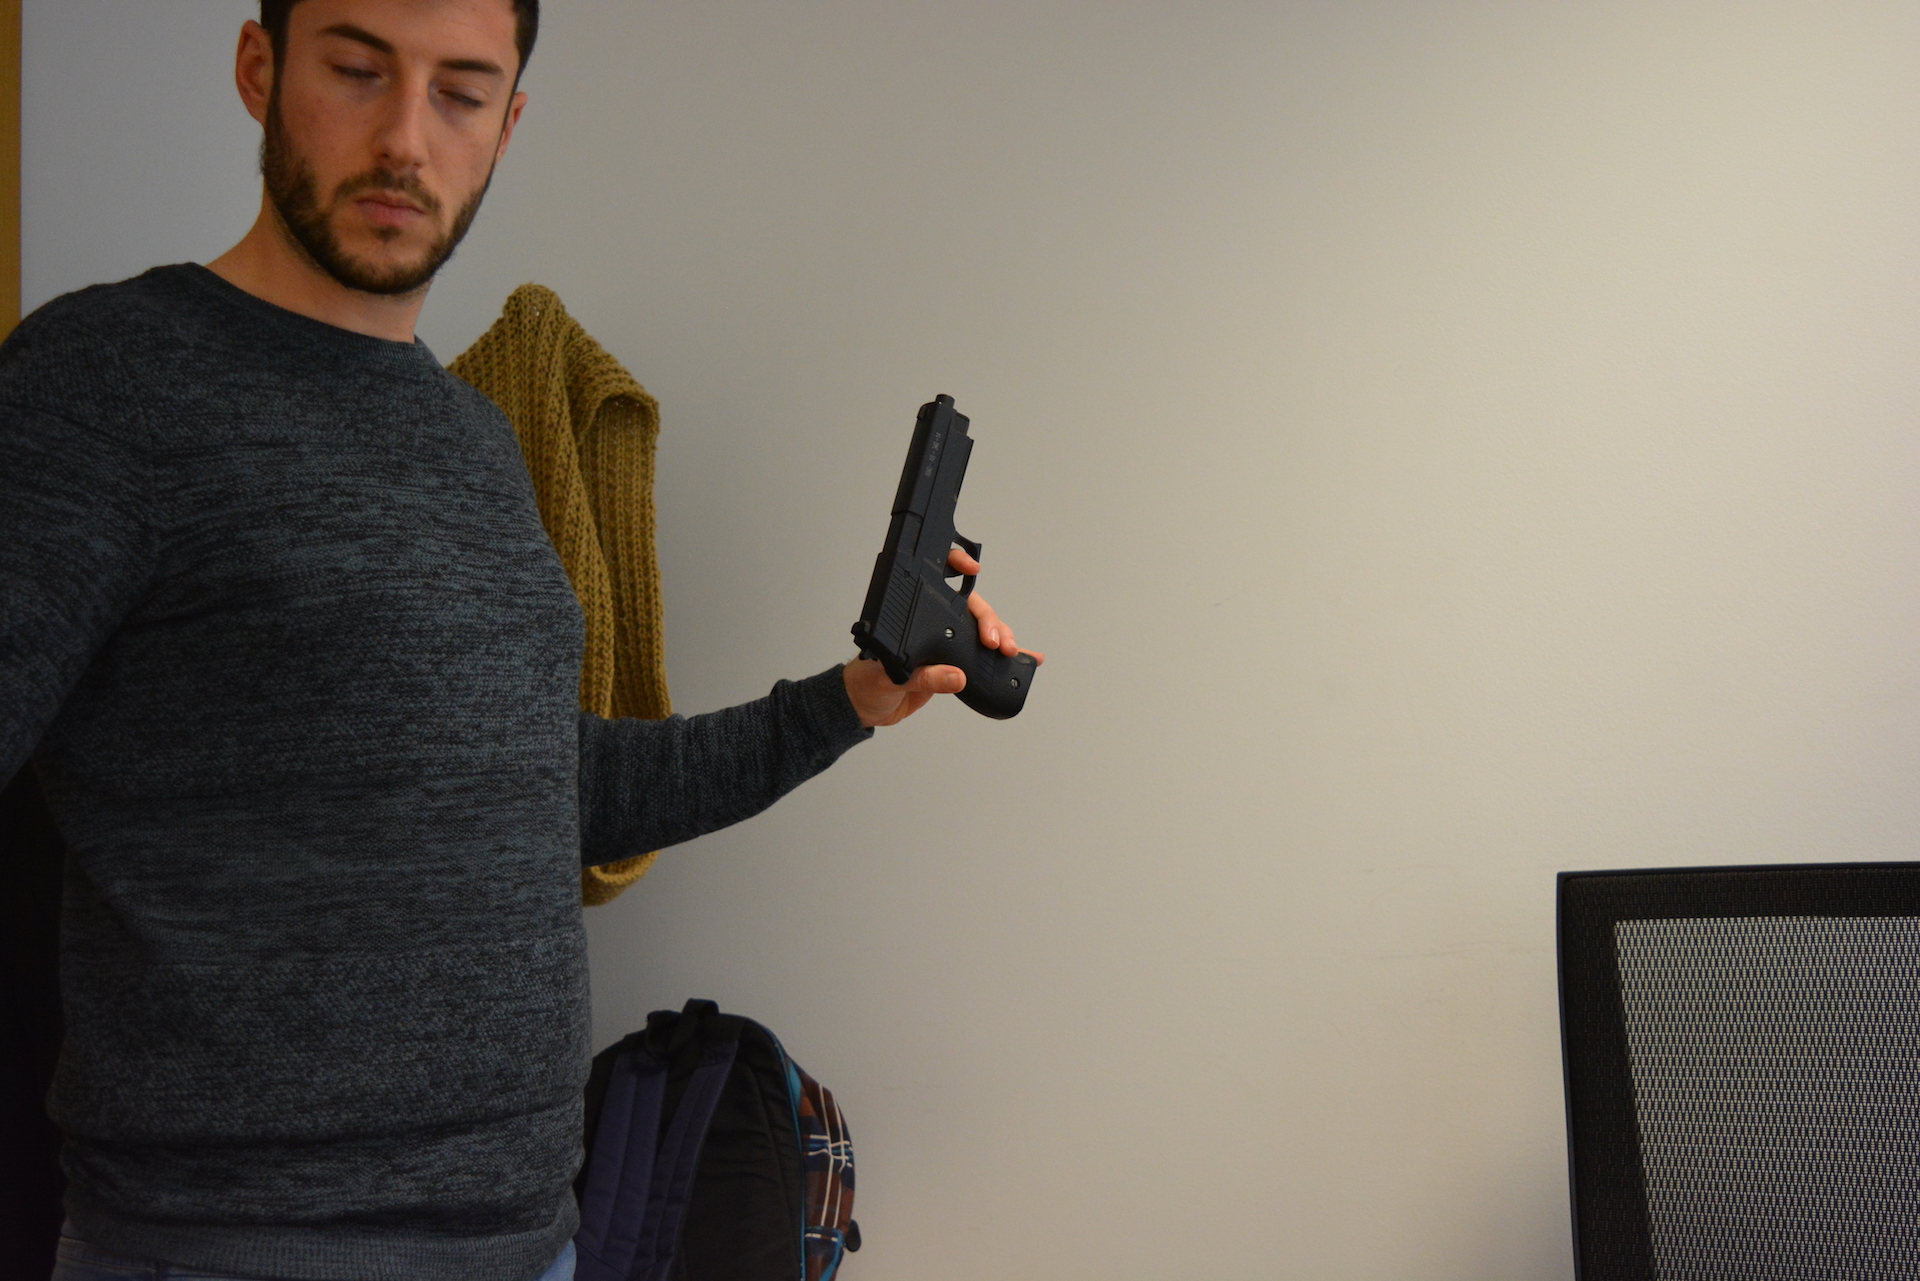pistol: (848, 392, 1039, 722)
